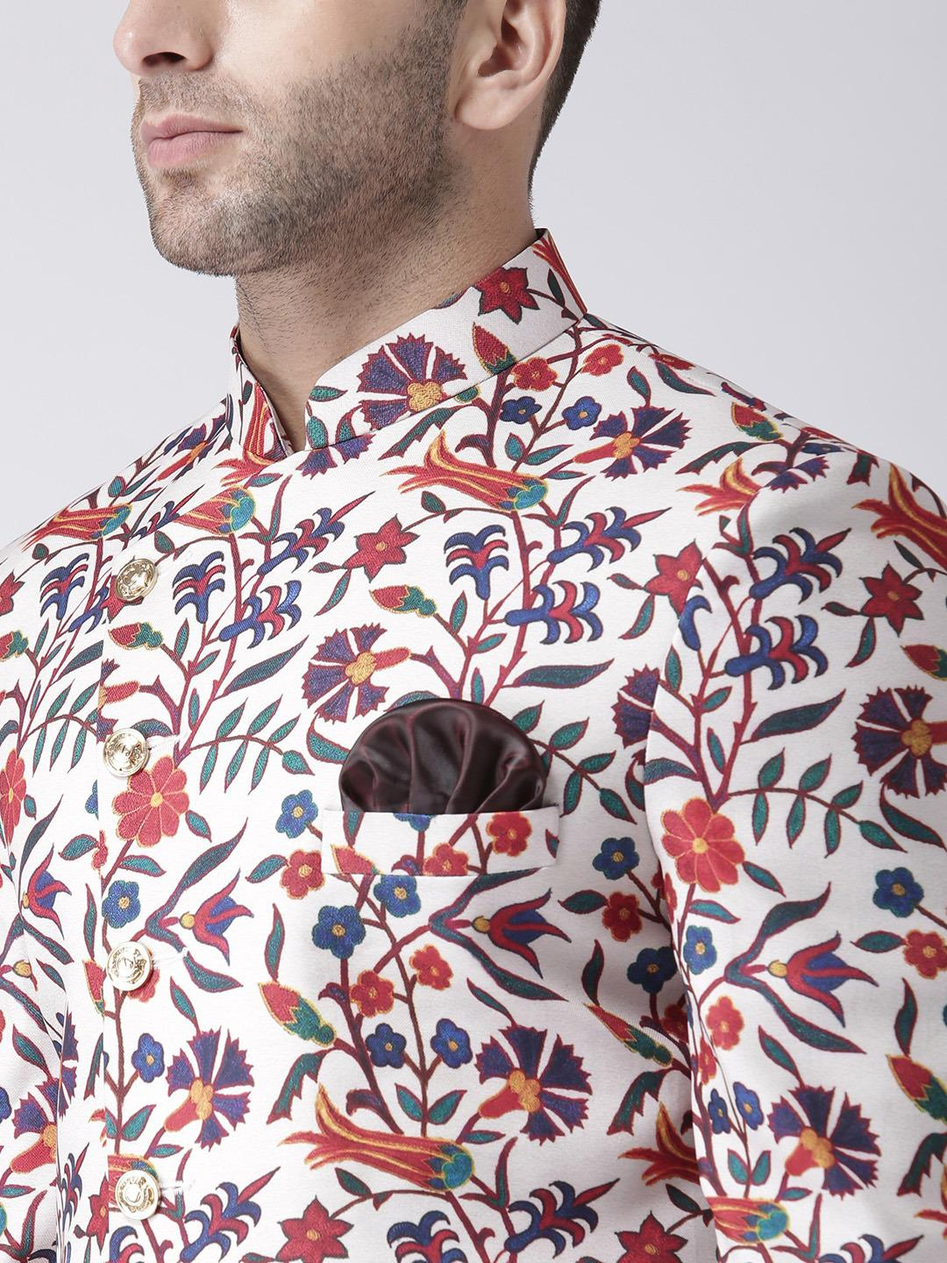Desgin sherwani: (2, 227, 945, 1260)
